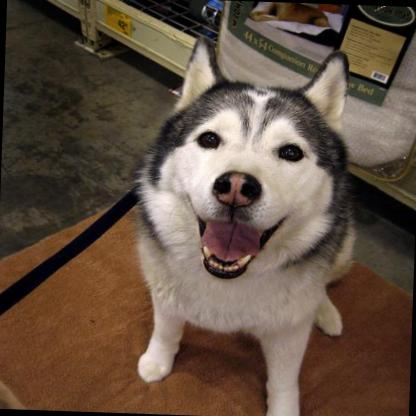Siberian_husky: (121, 30, 367, 416)
